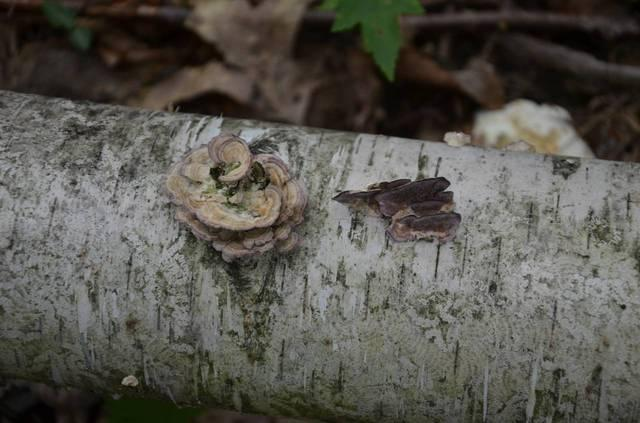Non-edible Mushroom: (164, 132, 309, 264)
